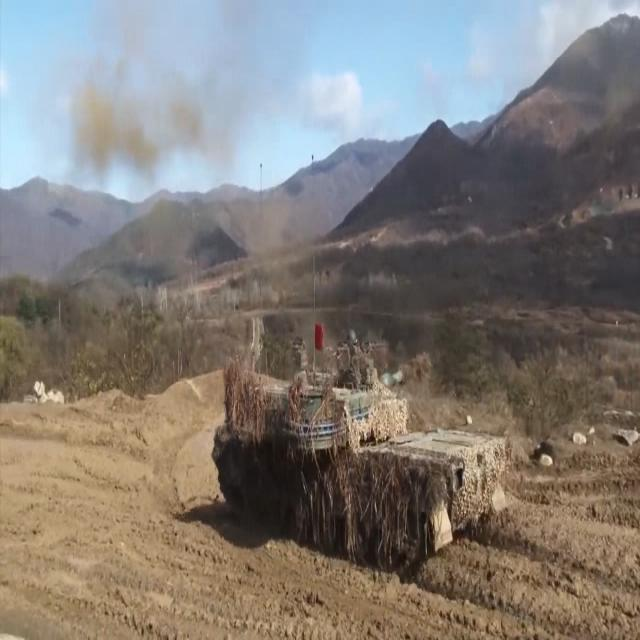korea tank: (210, 326, 508, 579)
